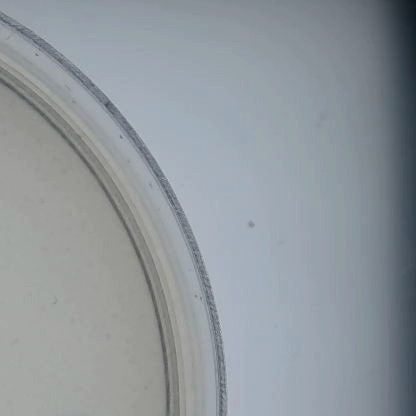worm: (47, 294, 63, 311)
